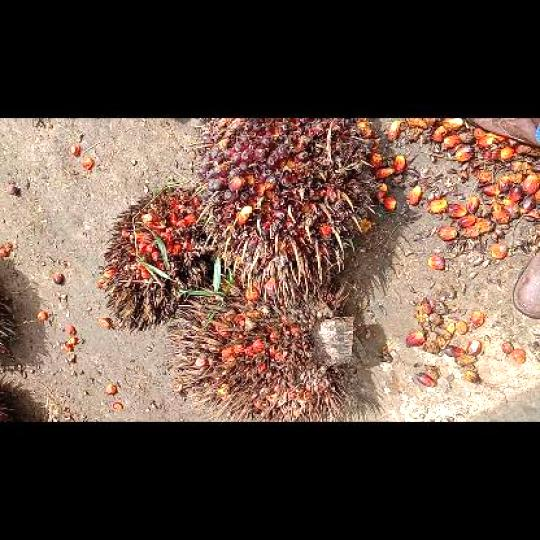masak: (194, 118, 385, 313)
terlalu masak: (163, 267, 361, 421), (97, 183, 212, 334)
